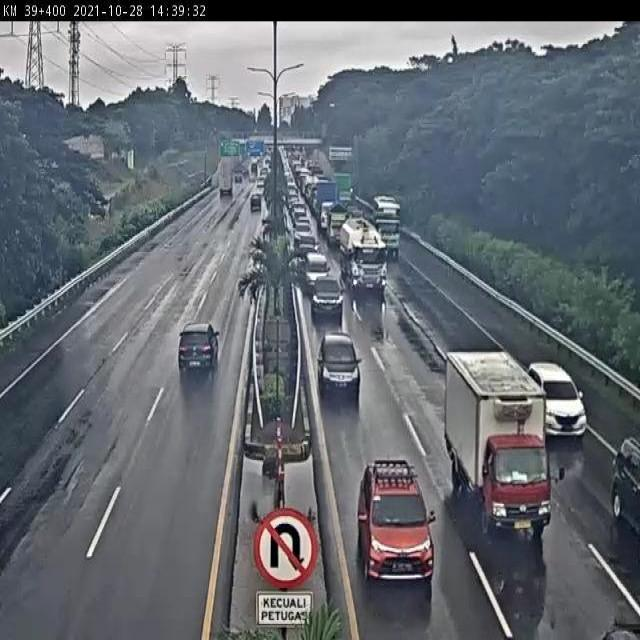big bus: (377, 193, 402, 228)
big truck: (334, 216, 382, 292)
car: (370, 457, 438, 579), (604, 422, 640, 530), (529, 354, 582, 426), (173, 324, 223, 379), (312, 306, 352, 374), (305, 265, 341, 311), (304, 247, 330, 280), (241, 199, 265, 224)
small truck: (461, 362, 559, 534), (369, 209, 399, 260), (204, 168, 234, 203)
